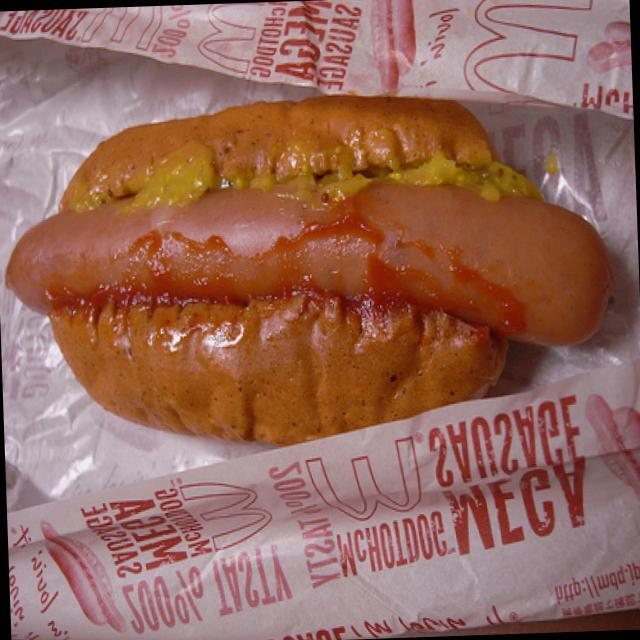Hot Dog: (0, 85, 630, 435)
